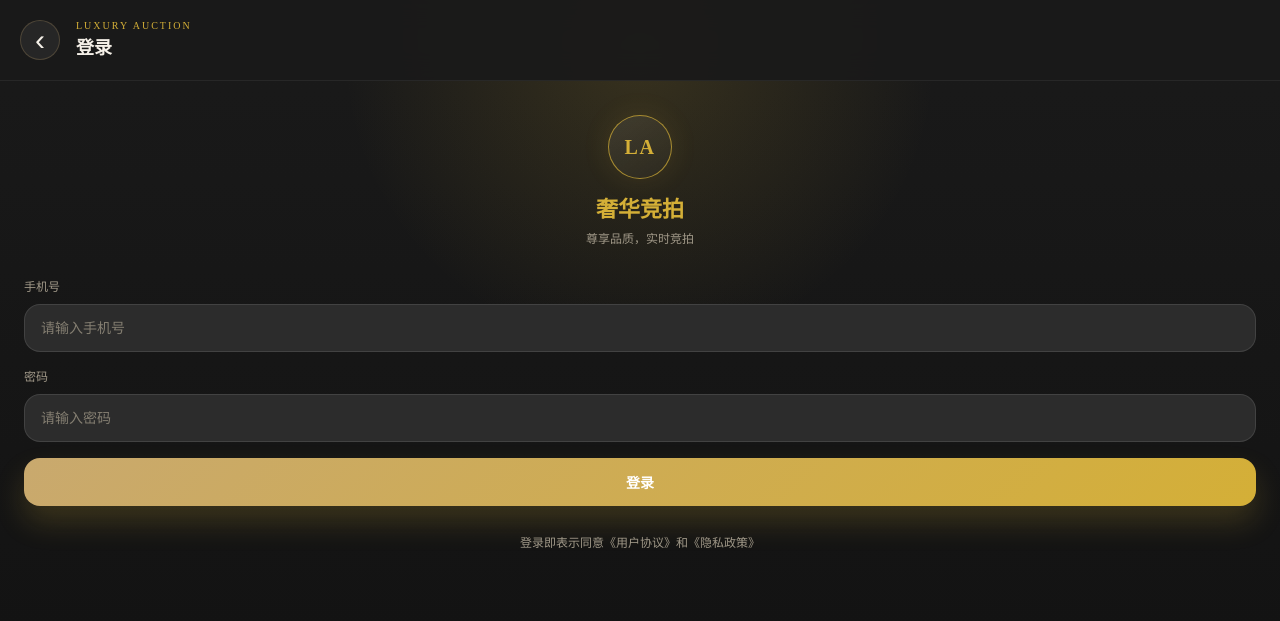
Test: Login migration › shows validation error before requesting login when phone is empty
Type "secret123" into the password field labelled "密码". click: (640, 418)
box: top-left (24, 394), bottom-right (1256, 442)
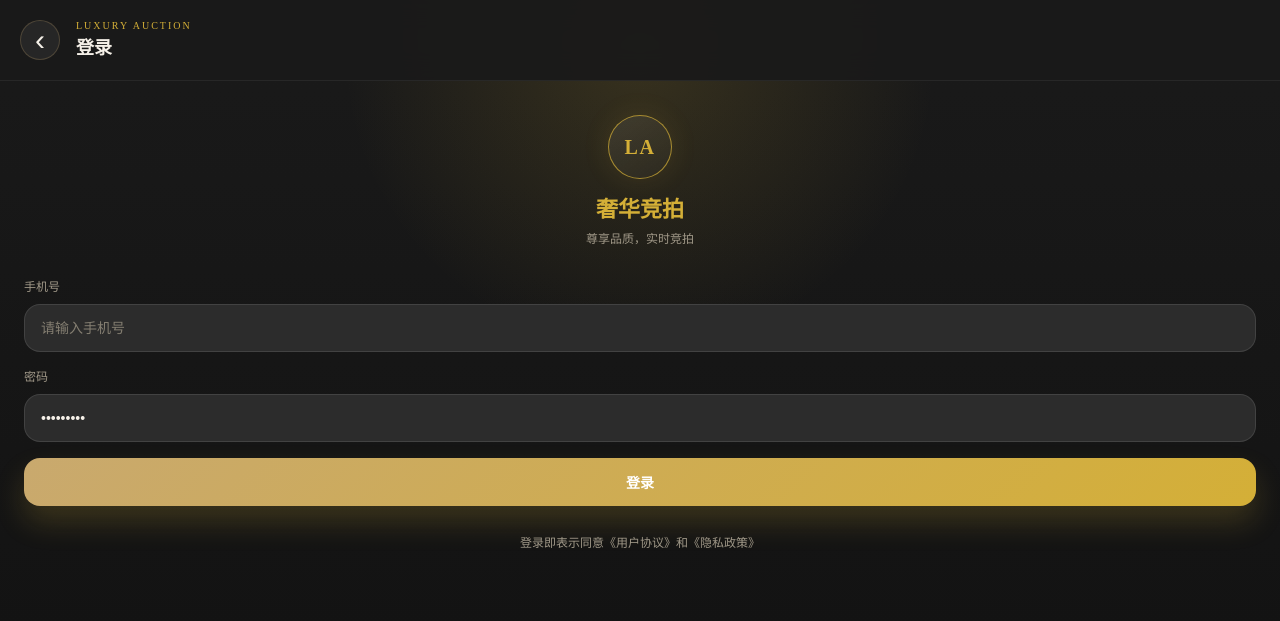
Click the button "登录". click: click(640, 482)
box: top-left (24, 458), bottom-right (1256, 506)
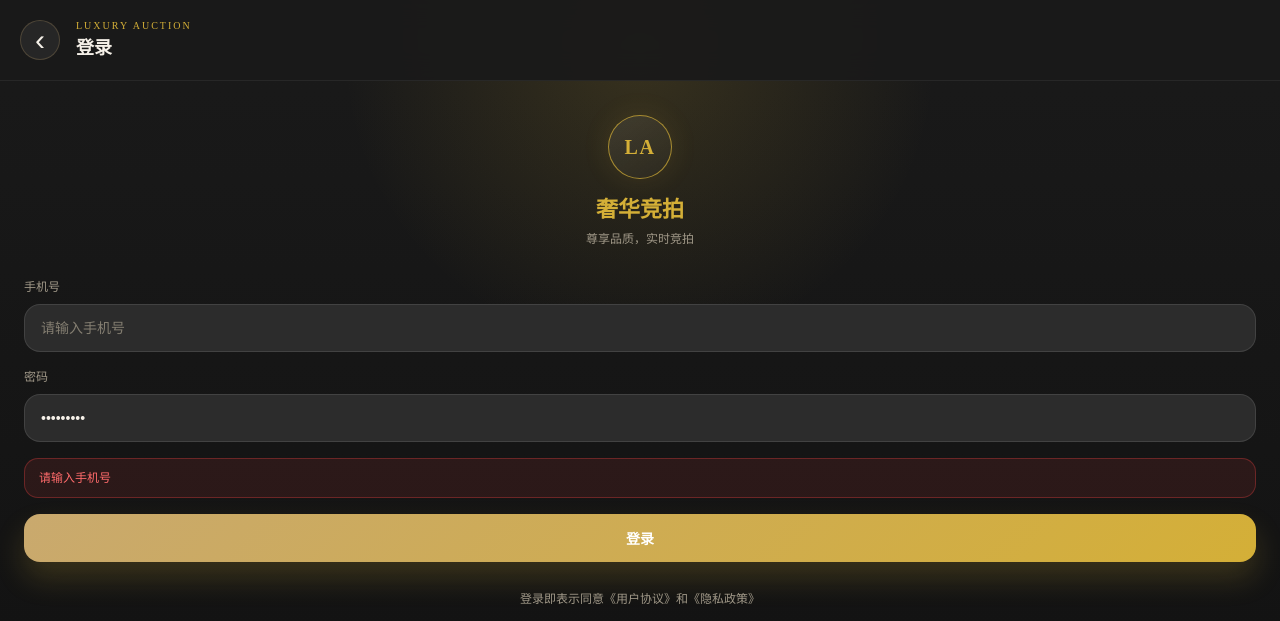
Check: the text "请输入手机号" is shown, box top-left (24, 458), bottom-right (1256, 498)
